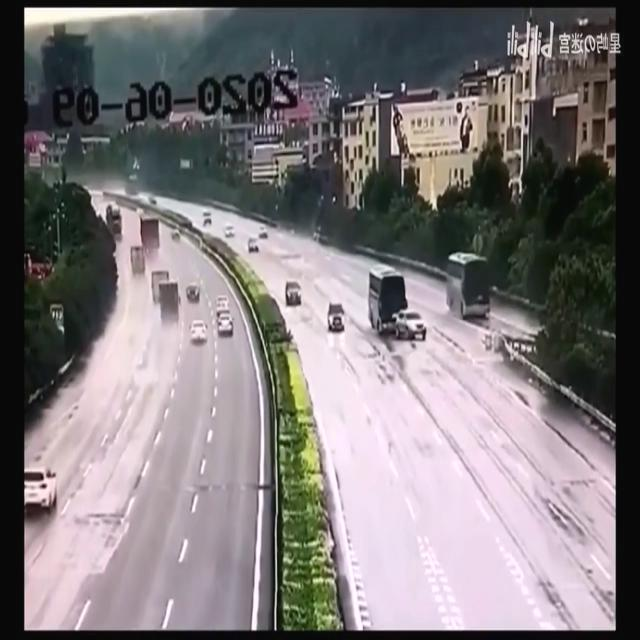accident: (367, 263, 428, 343)
non-accident: (150, 270, 180, 334), (130, 217, 160, 280), (216, 294, 234, 336)
